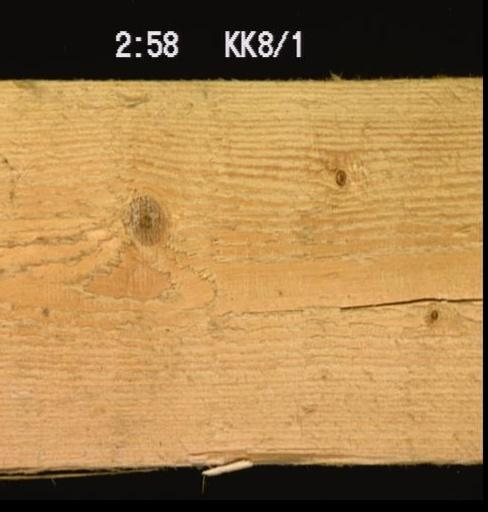dry_knot: (332, 167, 346, 187), (428, 307, 439, 320)
sound_knot: (127, 192, 164, 247)
split: (337, 295, 482, 309)
wave: (184, 447, 412, 477)
